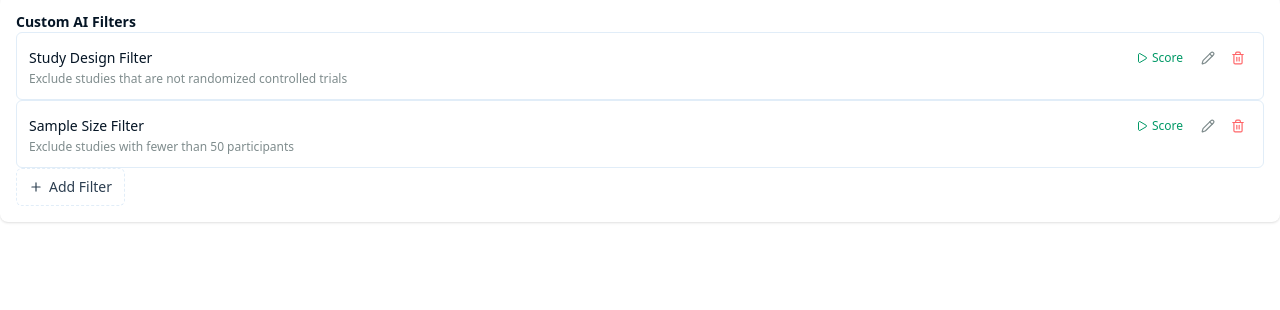
Test: CustomAiFilterEditor › dismisses scoring task notification
Click the button with test id "launch-scoring-f-1": click(1159, 58) [1128, 46, 1191, 70]
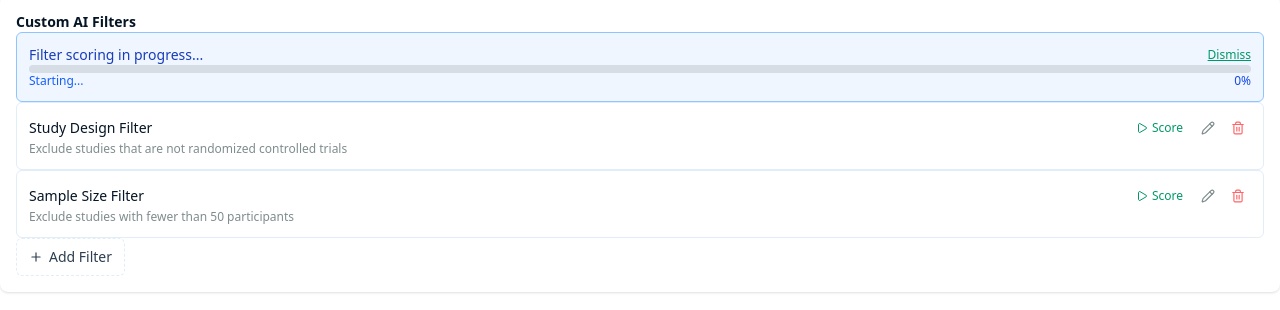
Check: the element with test id "scoring-task-launched" is shown, box [16, 32, 1264, 102]
Click the button with test id "dismiss-scoring-task": click(1229, 55) [1208, 47, 1251, 63]
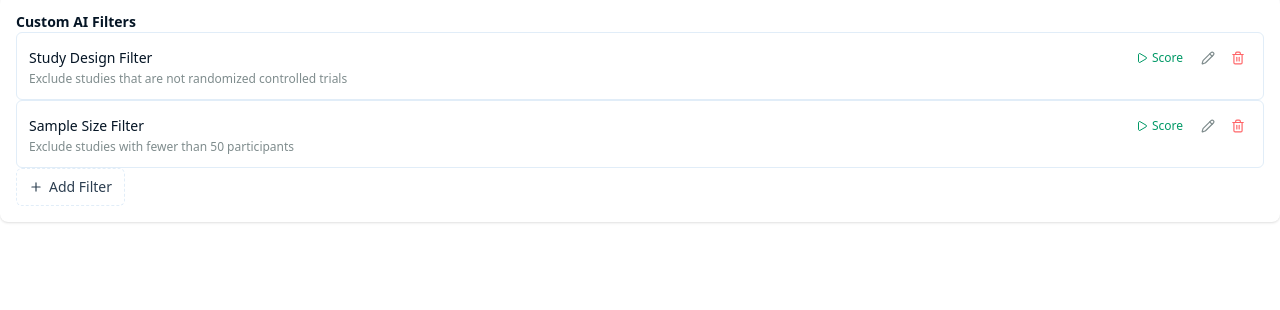
Check: the element with test id "scoring-task-launched" is gone
